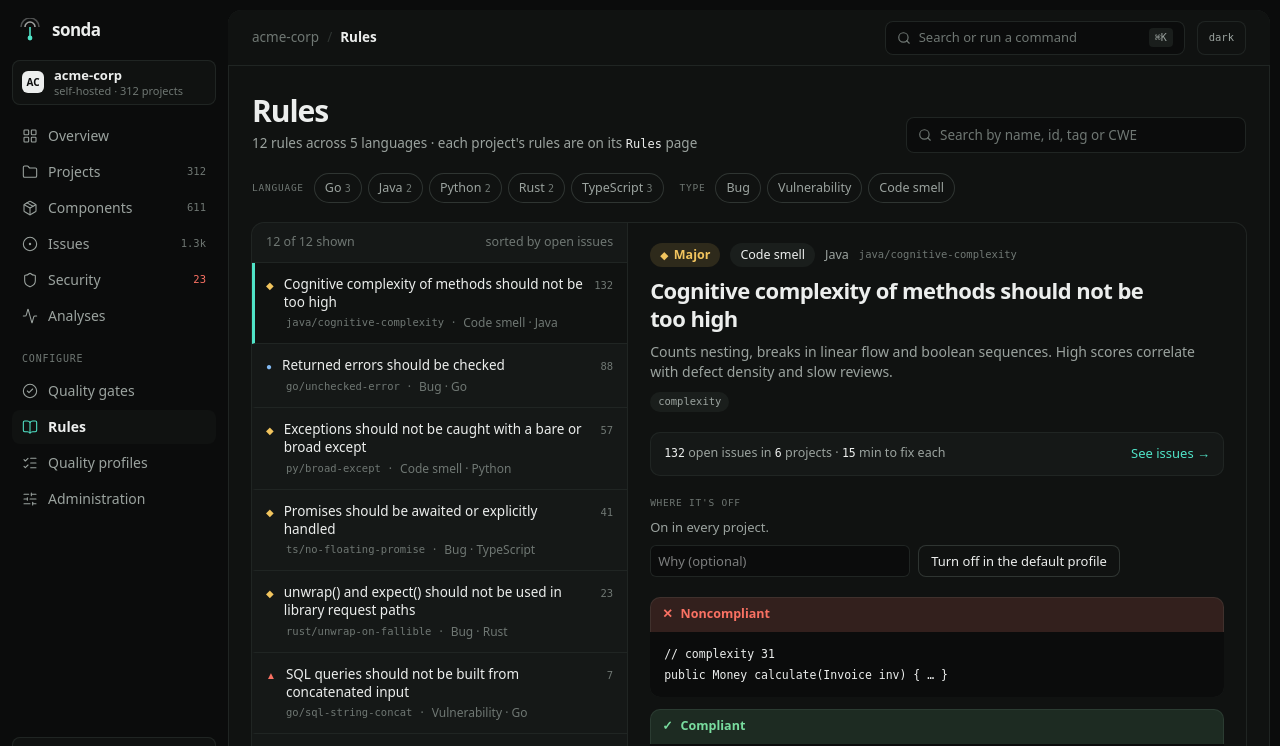
Test: Rules › searches by id and tag, with an explicit empty state
Type "cwe-89" into the field named "Search rules".
click(1087, 135); type("cwe-89")  # box x1=940 y1=125 x2=1234 y2=145
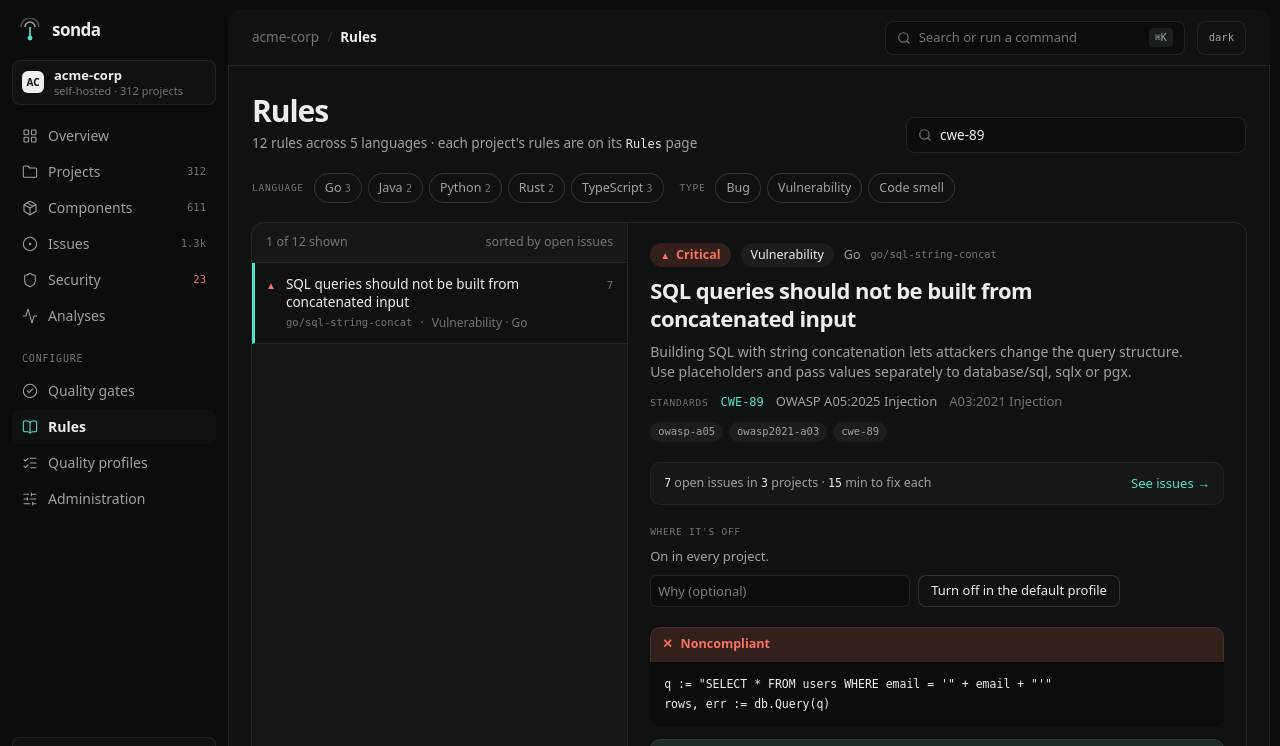
Expected: the number of options is 1, x1=252 y1=263 x2=627 y2=344
Replace the text in the field named "Search rules" with "no-such-rule" at (1087, 135), box x1=940 y1=125 x2=1234 y2=145
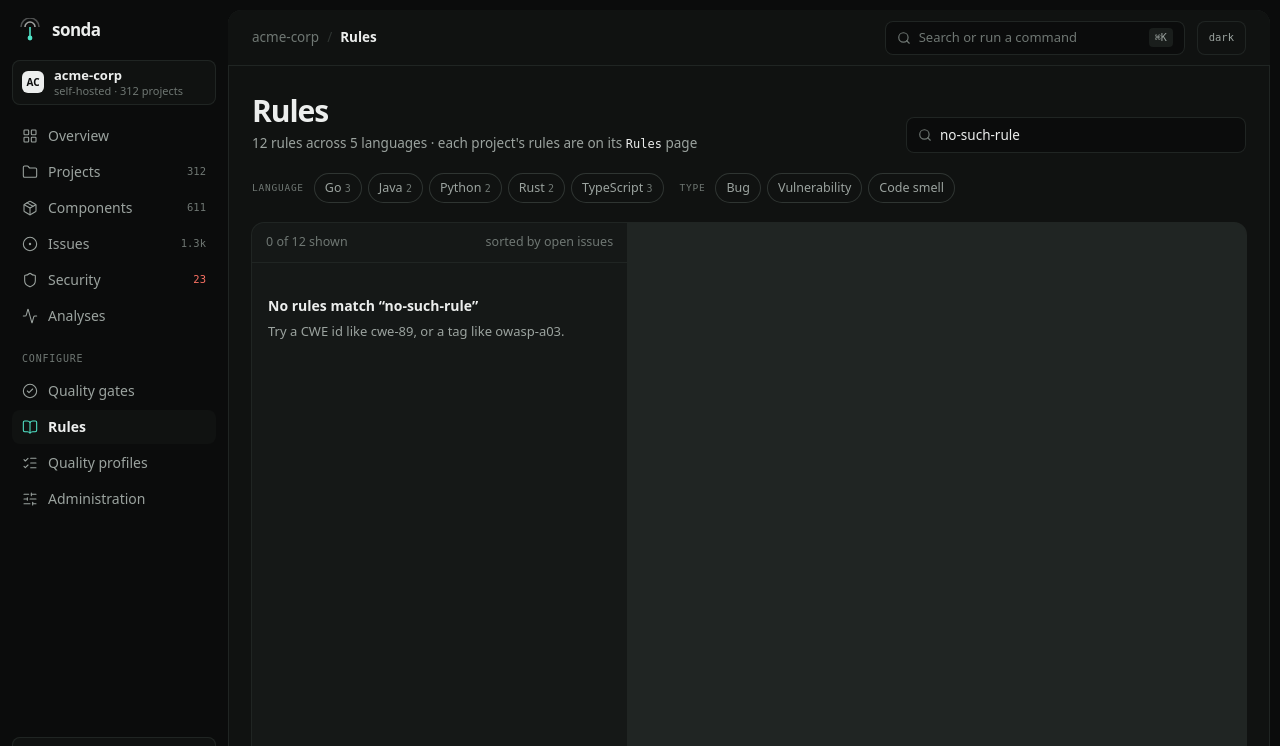
Expected: the text "No rules match “no-such-rule”" is shown, x1=268 y1=296 x2=478 y2=315
